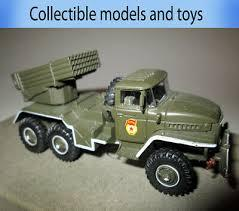MIL_SAM_TEL: (12, 51, 231, 196)
